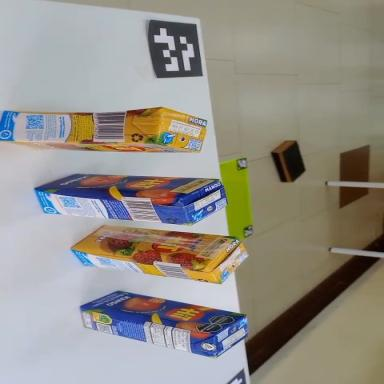HIT-MANGO: (76, 284, 251, 363), (34, 172, 228, 226)
HIT-MORA: (70, 223, 249, 286), (0, 107, 206, 152)
cara_F: (80, 284, 247, 341), (70, 222, 237, 270), (34, 172, 221, 201), (1, 141, 200, 152)
